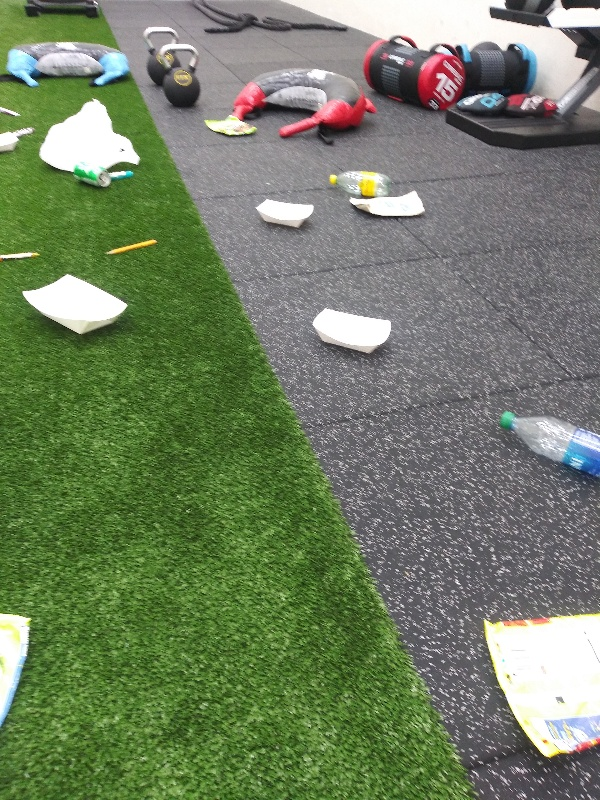bag: (477, 609, 600, 764), (1, 610, 34, 725), (345, 188, 433, 221), (199, 113, 259, 139)
bottle: (493, 407, 600, 486), (327, 165, 394, 197)
can: (67, 162, 112, 189)
plate: (15, 271, 135, 338), (310, 304, 399, 359), (253, 196, 319, 228), (2, 127, 22, 158)
